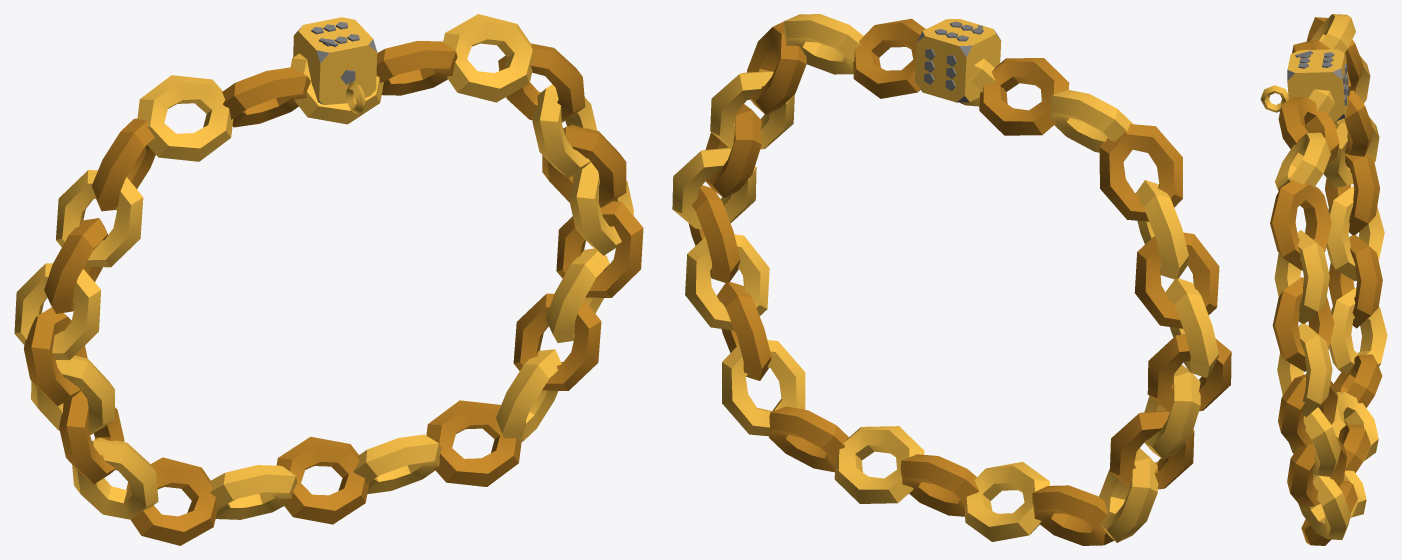
File: Wrist_Chain.fbx
3 views of the same model, side by side, from view 1: azimuth 30°, elevation 25°; view 2: azimuth 150°, elevation 25°; view 3: azimuth 270°, elevation 25° (orthographic). The views are drawn at different scales.
Visible parts, largest first — view 1: Wrist_Chain; view 2: Wrist_Chain; view 3: Wrist_Chain.
Part boxes in pixels (x1=…): Wrist_Chain: x1=14, y1=14, x2=643, y2=545; Wrist_Chain: x1=672, y1=14, x2=1231, y2=545; Wrist_Chain: x1=1260, y1=14, x2=1387, y2=545.
Size of the model in its own units: 0.5389 by 0.4337 by 0.1166.
1 material, 1 textured.
